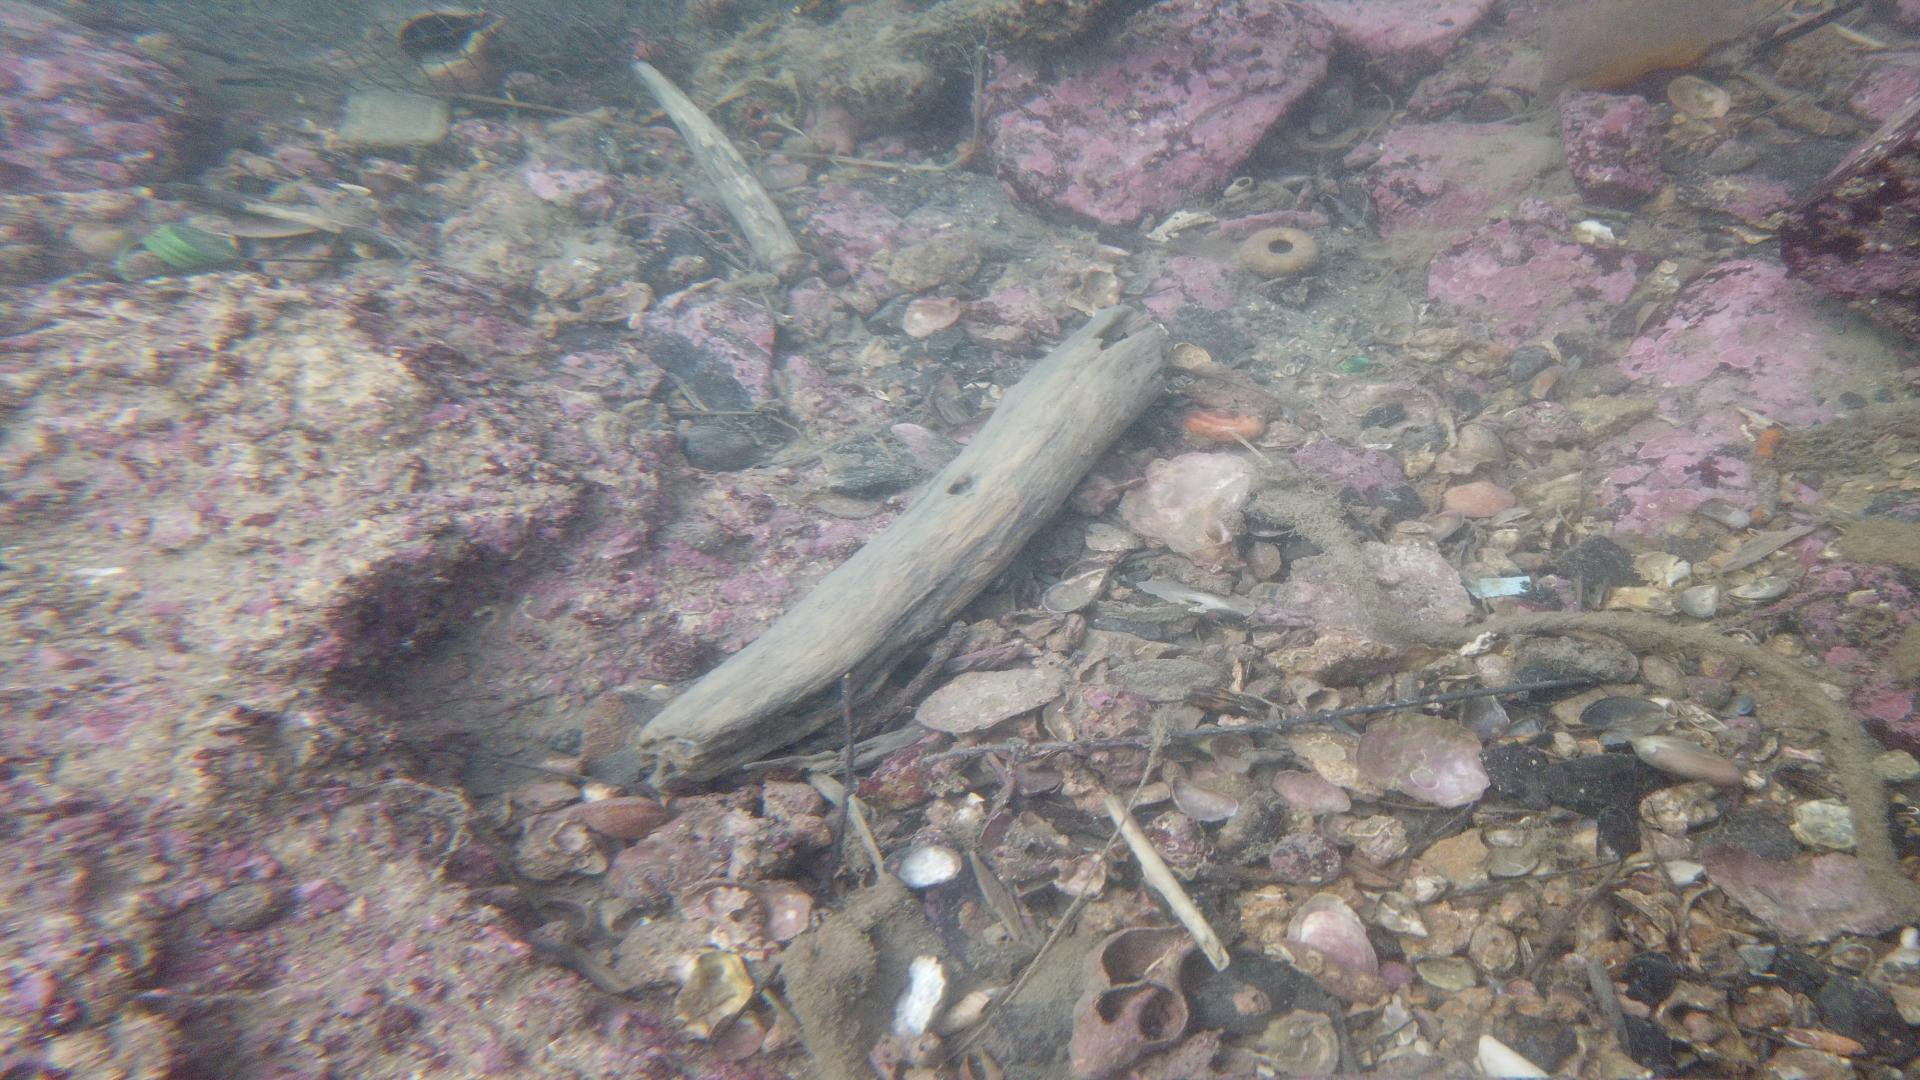fish net: (109, 0, 723, 115)
rope: (1295, 516, 1920, 924)
wood: (634, 302, 1166, 787), (626, 58, 808, 284)
